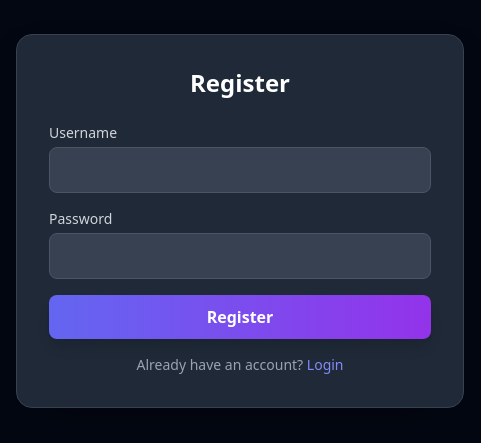
Test case: RegisterPage › blocks submit when password has no numbers
This screenshot has width=481, height=443.
Type "testuser" into the field with id "username" at (240, 170), box [49,147,431,193]
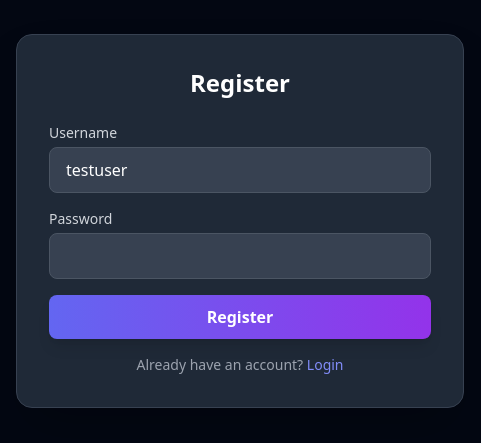
Type "abcdefgh" into the password field labelled "Password" at (240, 256), box [49,233,431,279]
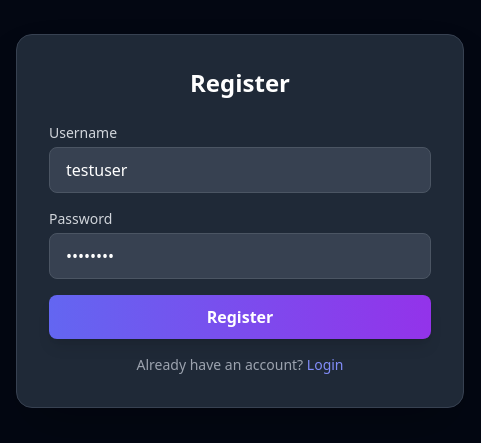
Submit the form, box [49,123,431,339]
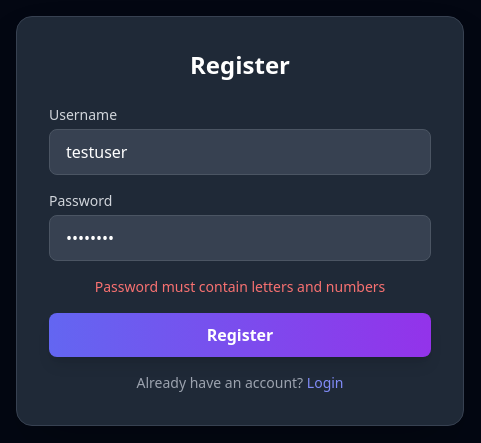
Result: the text with class "error" reads "Password must contain letters and numbers" at [95,277,385,296]
